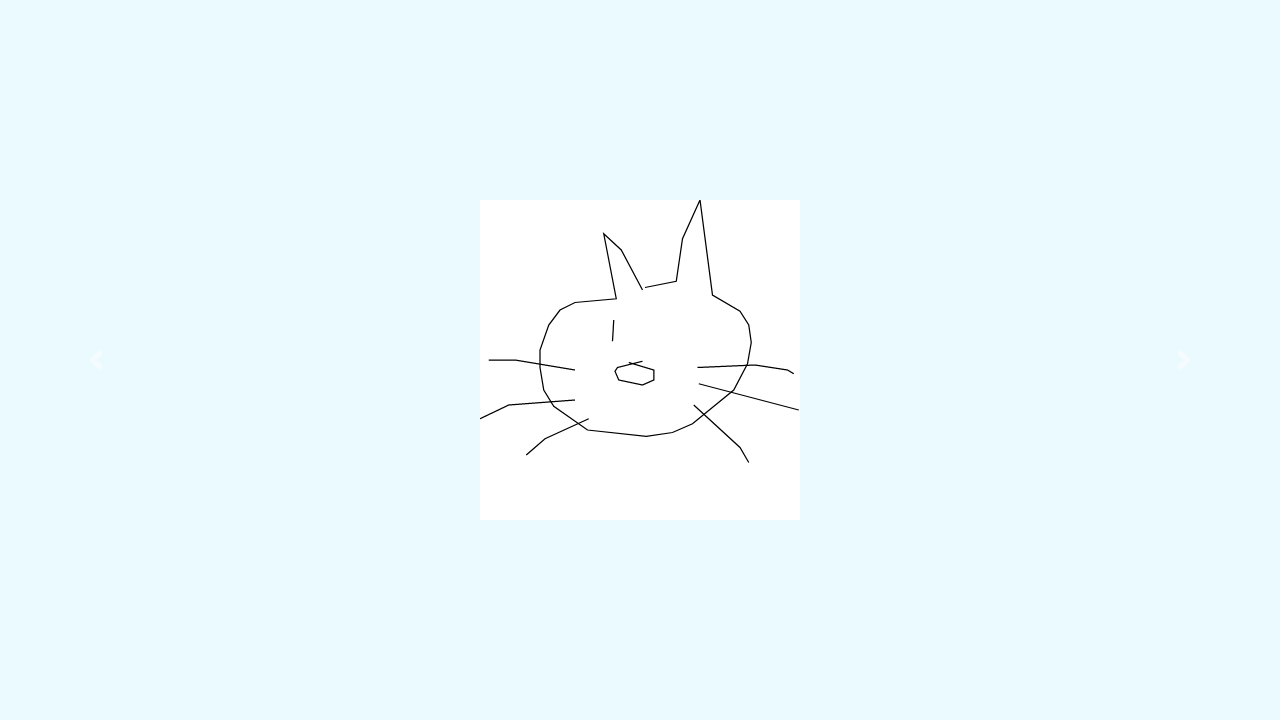cat: (474, 192, 805, 467)
